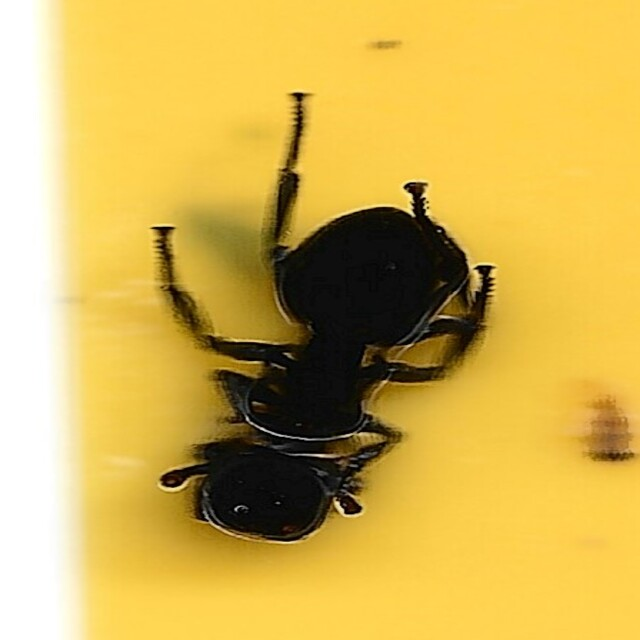Hymenoptera: (143, 95, 497, 545)
